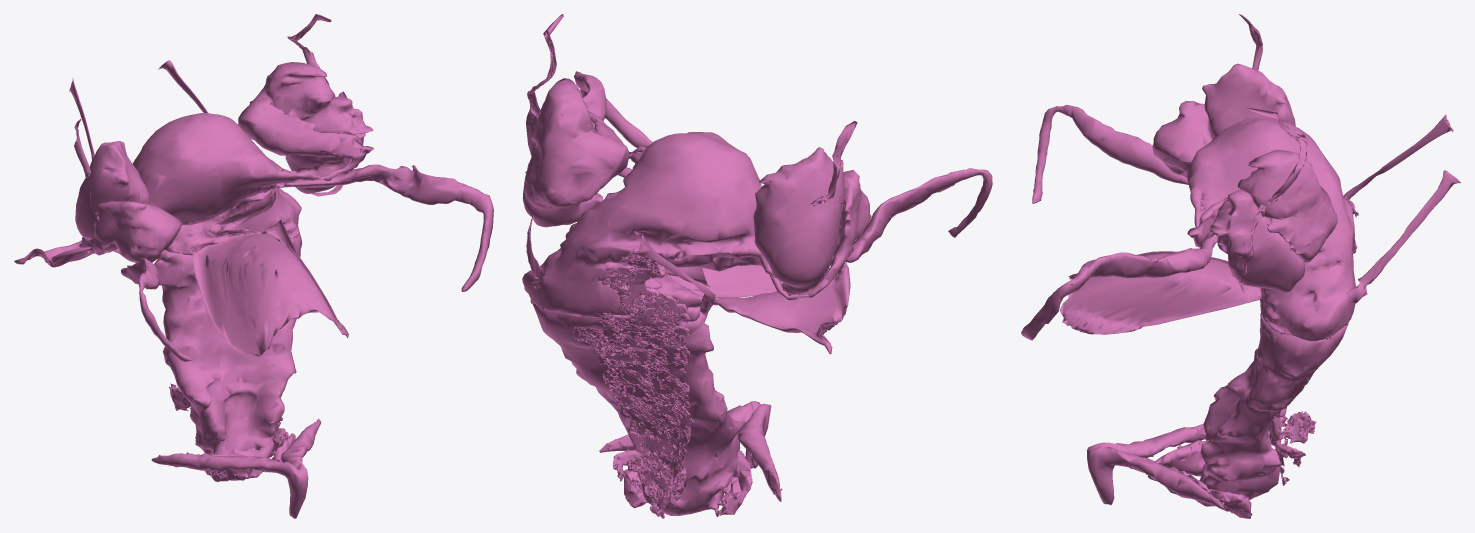
Rendered from reproductive.glb.
3 views of the same model, side by side, from view 1: azimuth 30°, elevation 25°; view 2: azimuth 150°, elevation 25°; view 3: azimuth 270°, elevation 25° (orthographic). The views are drawn at different scales.
Parts seen in each view (by area): view 1: WU_vaginal_wall, WU_uterine_wall, HRA_uterovesical_pouch, WU_uterine_tube_L, WU_round_ligament_of_uterus_L, WU_uterine_tube_R, WU_ovary_R, WU_cavernous_body_of_clitoris, WU_ovary_L, WU_round_ligament_of_uterus_R, HRA_right_cardinal_ligament_of_uterus, WU_vestibular_bulb_R; view 2: WU_uterine_wall, WU_denonvillier_fascia, WU_vaginal_wall, WU_ovary_R, WU_uterine_tube_L, HRA_right_cardinal_ligament_of_uterus, WU_round_ligament_of_uterus_R, WU_cavernous_body_of_clitoris, WU_uterine_tube_R, HRA_uterovesical_pouch, WU_round_ligament_of_uterus_L, WU_ovary_L (+6 smaller); view 3: WU_uterine_wall, WU_vaginal_wall, HRA_uterovesical_pouch, WU_uterine_tube_L, WU_ovary_L, WU_cavernous_body_of_clitoris, WU_round_ligament_of_uterus_L, WU_ovary_R, WU_round_ligament_of_uterus_R, WU_uterine_tube_R, WU_denonvillier_fascia, HRA_left_uterosacral_ligament (+4 smaller).
Boxes of the visible parts, x1,y1,x2,y2 form: WU_vaginal_wall: [154, 226, 302, 457]; WU_uterine_wall: [132, 113, 321, 255]; HRA_uterovesical_pouch: [190, 190, 348, 356]; WU_uterine_tube_L: [238, 62, 373, 181]; WU_round_ligament_of_uterus_L: [273, 164, 493, 291]; WU_uterine_tube_R: [79, 201, 182, 262]; WU_ovary_R: [75, 141, 149, 251]; WU_cavernous_body_of_clitoris: [151, 418, 321, 518]; WU_ovary_L: [285, 96, 373, 193]; WU_round_ligament_of_uterus_R: [121, 258, 192, 361]; HRA_right_cardinal_ligament_of_uterus: [14, 240, 119, 267]; WU_vestibular_bulb_R: [199, 453, 264, 481]; WU_uterine_wall: [522, 132, 775, 321]; WU_denonvillier_fascia: [572, 248, 694, 518]; WU_vaginal_wall: [532, 303, 742, 515]; WU_ovary_R: [753, 147, 844, 295]; WU_uterine_tube_L: [524, 78, 643, 209]; HRA_right_cardinal_ligament_of_uterus: [712, 263, 850, 354]; WU_round_ligament_of_uterus_R: [846, 168, 992, 262]; WU_cavernous_body_of_clitoris: [599, 401, 782, 501]; WU_uterine_tube_R: [769, 170, 871, 299]; HRA_uterovesical_pouch: [659, 265, 782, 298]; WU_round_ligament_of_uterus_L: [574, 71, 652, 177]; WU_ovary_L: [522, 120, 603, 227]; WU_uterine_wall: [1186, 118, 1355, 341]; WU_vaginal_wall: [1199, 315, 1349, 499]; HRA_uterovesical_pouch: [1060, 251, 1264, 334]; WU_uterine_tube_L: [1187, 149, 1337, 262]; WU_ovary_L: [1210, 190, 1305, 292]; WU_cavernous_body_of_clitoris: [1087, 423, 1223, 509]; WU_round_ligament_of_uterus_L: [1021, 234, 1217, 340]; WU_ovary_R: [1202, 63, 1295, 139]; WU_round_ligament_of_uterus_R: [1032, 104, 1188, 203]; WU_uterine_tube_R: [1152, 101, 1212, 177]; WU_denonvillier_fascia: [1269, 196, 1358, 485]; HRA_left_uterosacral_ligament: [1347, 170, 1460, 303].
Size of the model in its own units: 0.1364 by 0.1545 by 0.137.
